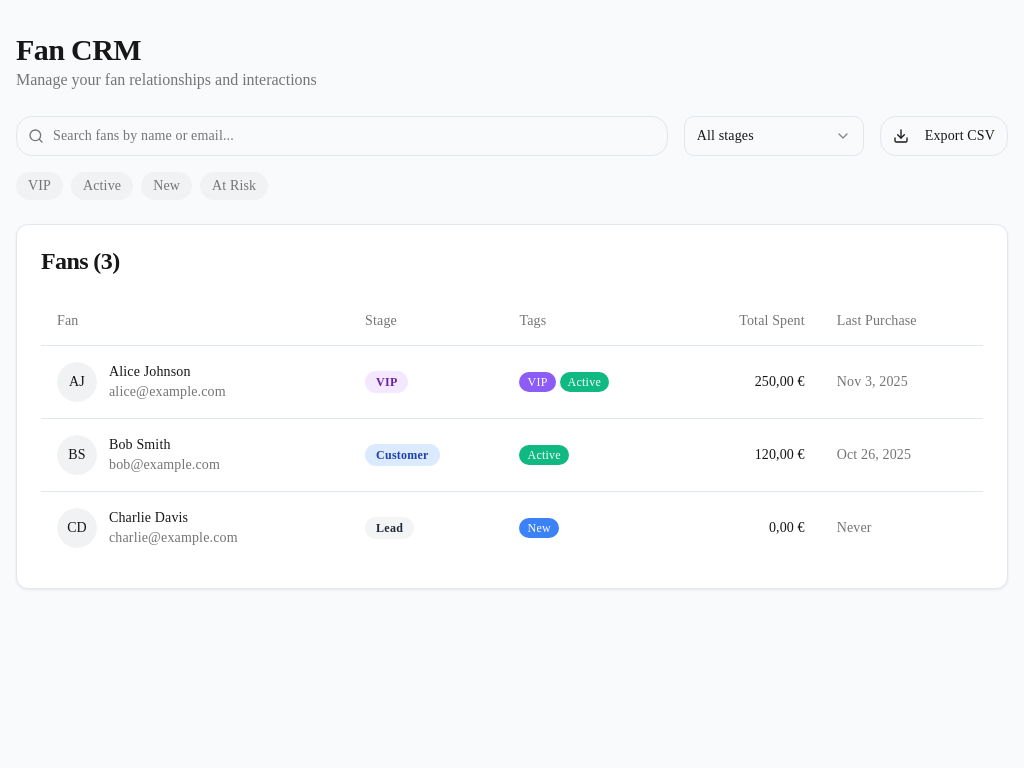
CRM Fans List Page › filters by stage
Check: the element with test id "fan-table" is shown, box [16, 224, 1008, 588]
Click the dropdown with test id "stage-filter" at (774, 136), box [684, 116, 864, 156]
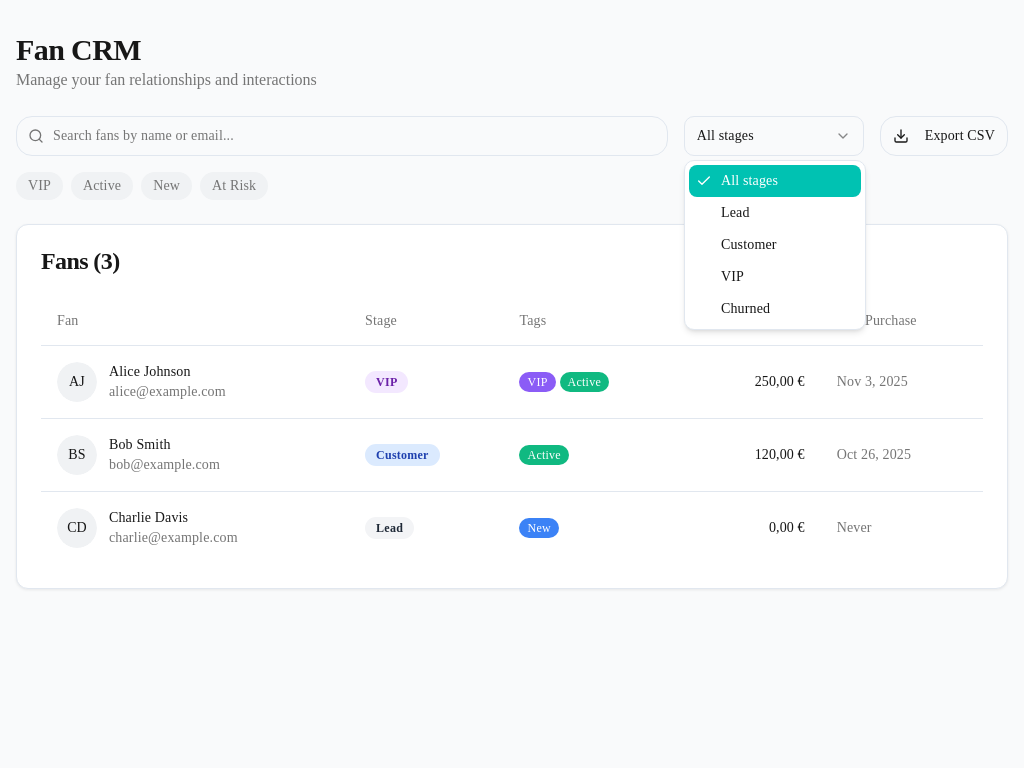
Click the option "VIP" at (732, 276), box [721, 269, 744, 284]
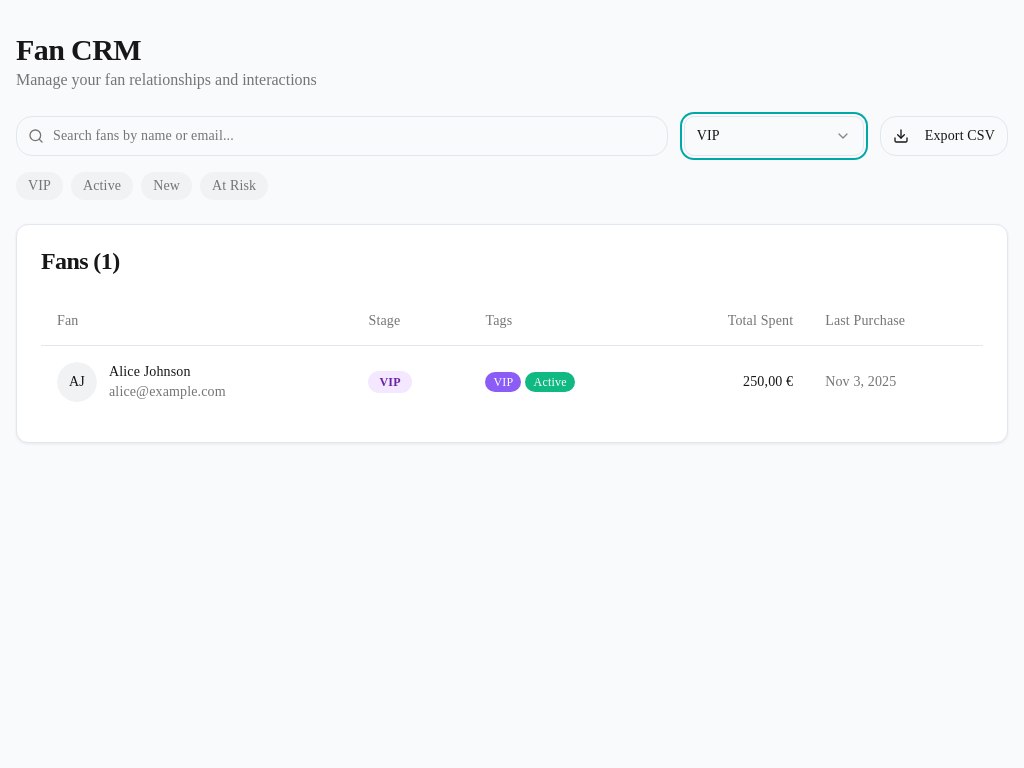
Check: the text "Alice Johnson" is shown, box [109, 364, 190, 378]
Check: the text "Bob Smith" is gone
